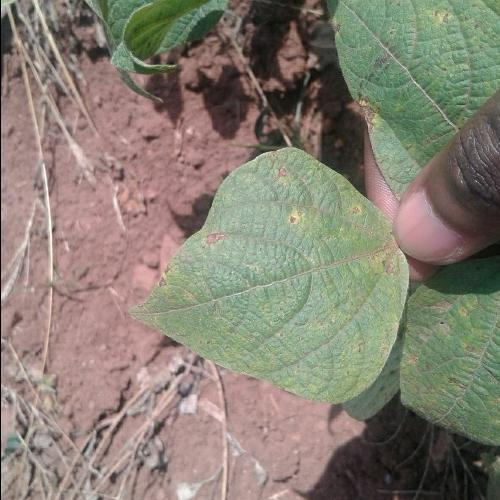hawar: (256, 161, 324, 245), (350, 220, 400, 283), (196, 216, 236, 260)
